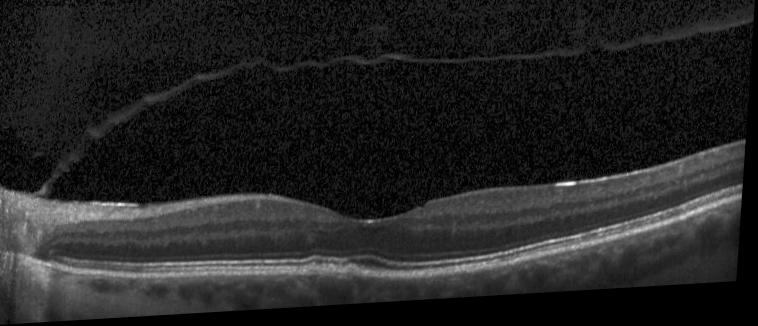retinal_drusen: (350, 267, 364, 279), (311, 267, 325, 278), (332, 268, 340, 278)
vitreous_detachment: (42, 27, 754, 198)
